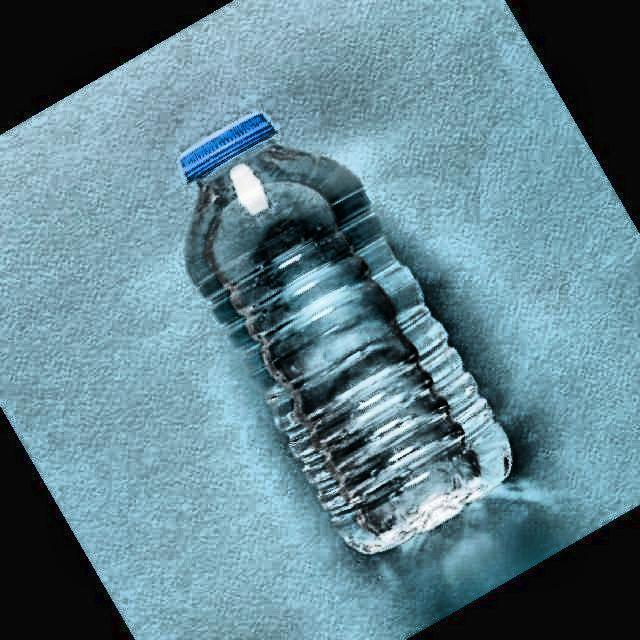plastic: (180, 114, 511, 554)
